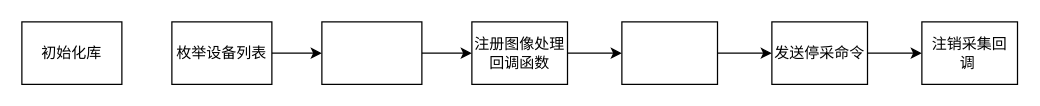
Image size: 1040x106. Some labels were removed from this diagram. Each missing label, with the centre of its shape:
发送开采命令: point (669, 52)
设置采集模式: point (371, 52)
